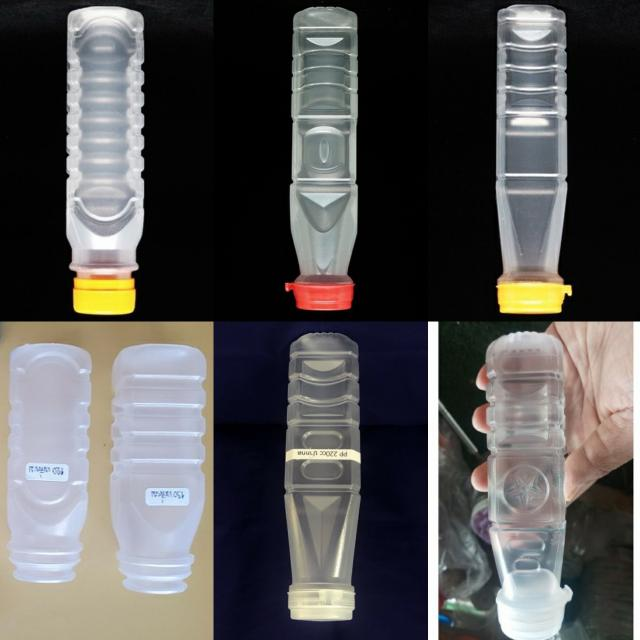plastik: (485, 332, 572, 640), (110, 345, 206, 594), (67, 7, 144, 315), (497, 5, 572, 314), (284, 333, 361, 621), (286, 8, 357, 310), (7, 343, 92, 583)
